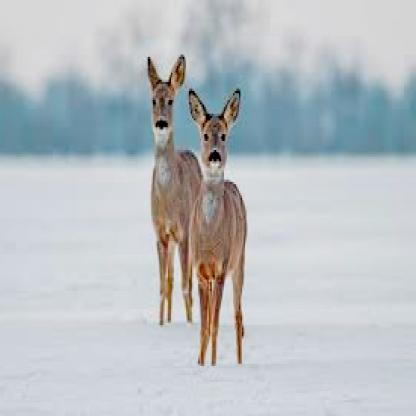Deer: (185, 86, 249, 372), (141, 52, 203, 329)
